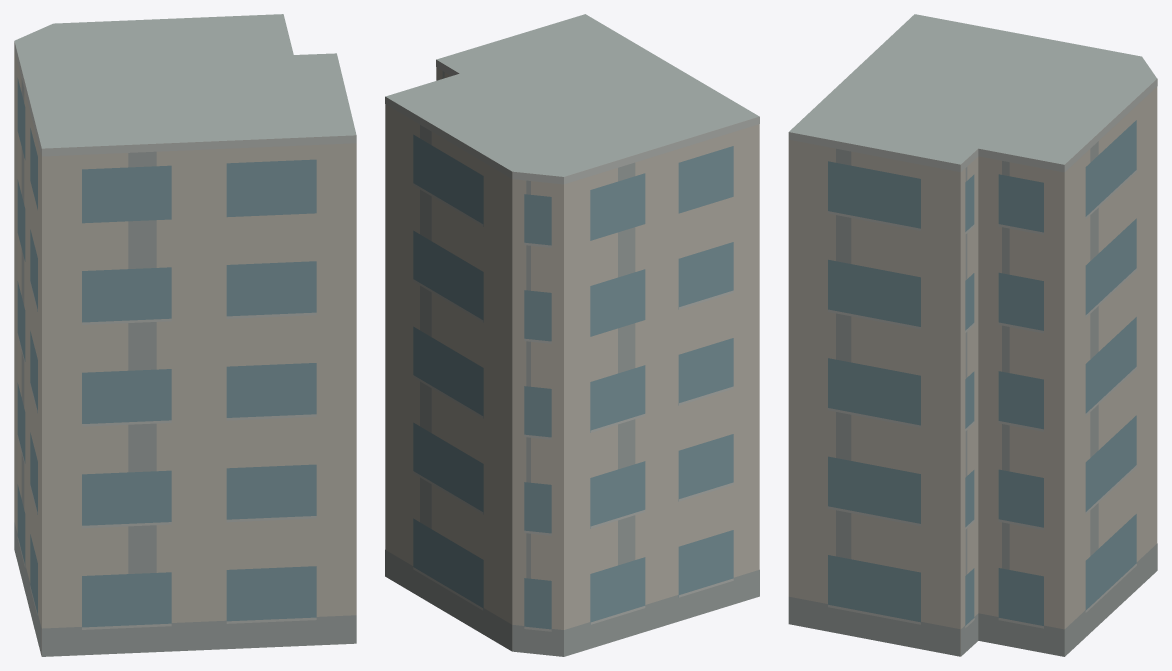
File: survey-upis-32530896.glb
The picture shows the model from 3 angles, left to right: view 1: azimuth 30°, elevation 25°; view 2: azimuth 150°, elevation 25°; view 3: azimuth 270°, elevation 25°; orthographic projection. The views are drawn at different scales.
Parts seen in each view (by area): view 1: survey-upis-32530896.tmp; view 2: survey-upis-32530896.tmp; view 3: survey-upis-32530896.tmp.
Part boxes in pixels (x1,y1,x2,y2): survey-upis-32530896.tmp: (14, 14, 356, 656); survey-upis-32530896.tmp: (385, 14, 759, 656); survey-upis-32530896.tmp: (788, 14, 1157, 656).
Size of the model in its own units: 10.26 by 15.6 by 10.6.
